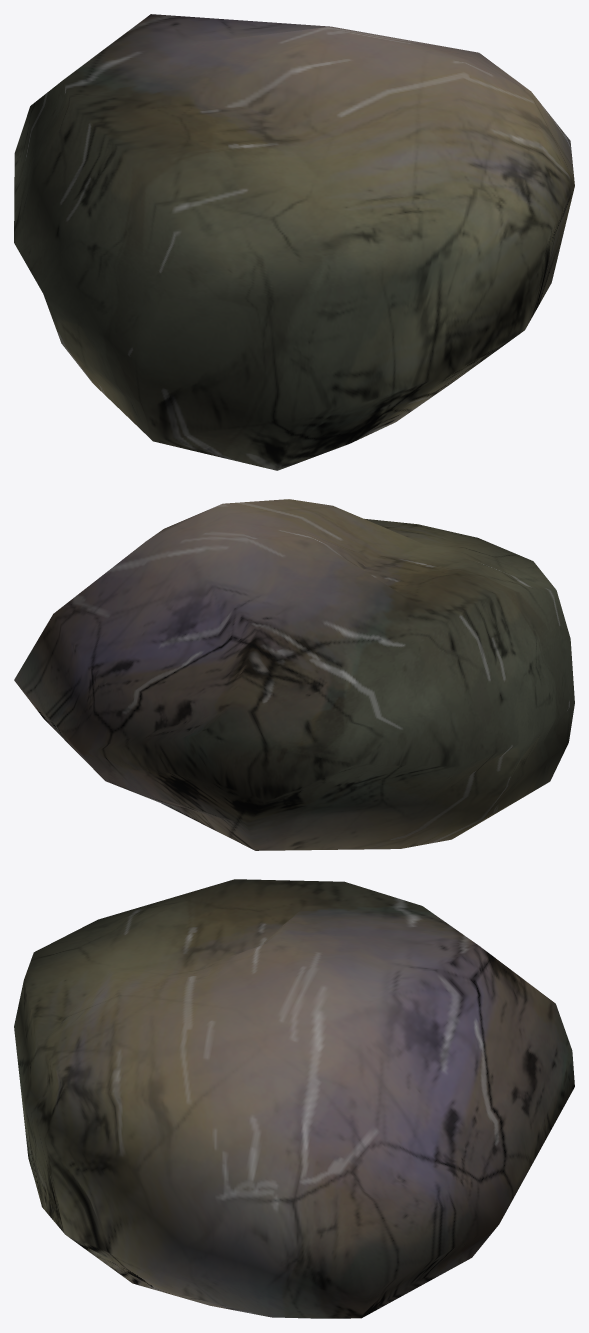
File: Rock_01B.fbx
3 renders of one model, top to bottom at view 1: azimuth 30°, elevation 25°; view 2: azimuth 150°, elevation 25°; view 3: azimuth 270°, elevation 25°, orthographic. The views are drawn at different scales.
Parts seen in each view (by area): view 1: Rock02:Mesh; view 2: Rock02:Mesh; view 3: Rock02:Mesh.
Part boxes in pixels (x1,y1,x2,y2): Rock02:Mesh: (14,14,574,470); Rock02:Mesh: (14,499,574,850); Rock02:Mesh: (14,879,574,1318).
Size of the model in its own units: 8.82 by 5.16 by 7.76.
